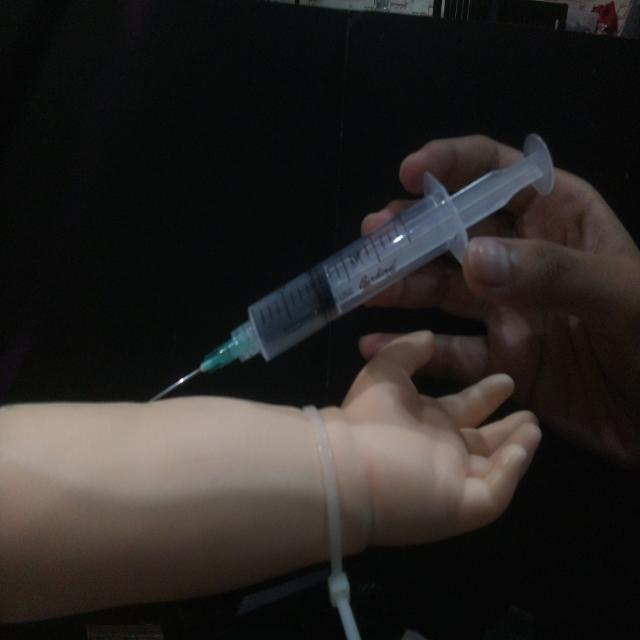20deg: (143, 128, 558, 404)
